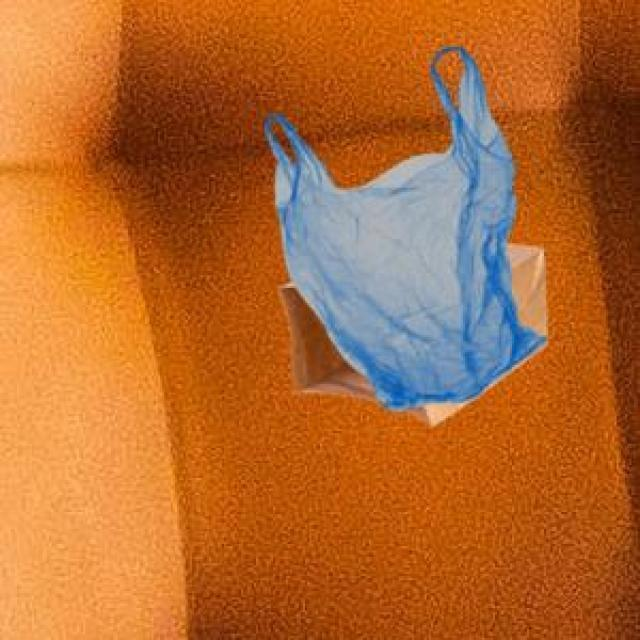paper: (275, 241, 542, 422)
